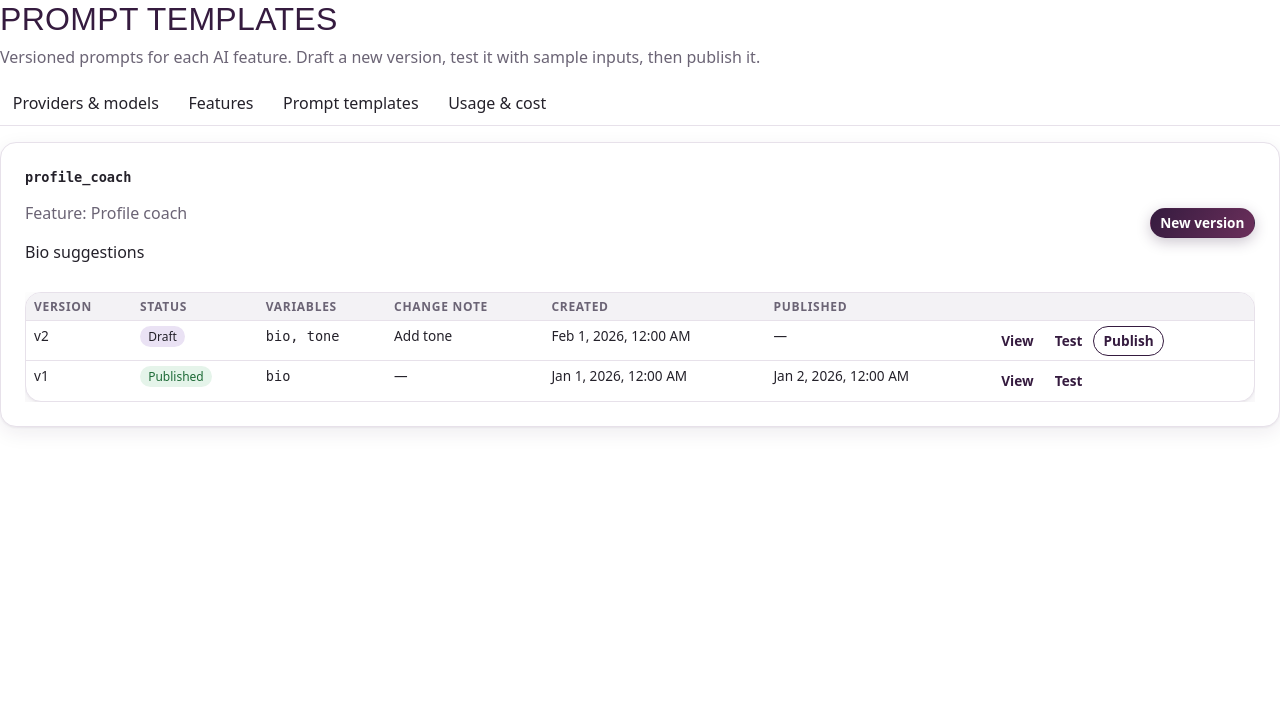
Test: PromptsPage › explains AI_UNAVAILABLE on a test run
Click the button "Test" in the row of "v1".
click(1069, 381)  # box [1044,366,1093,396]
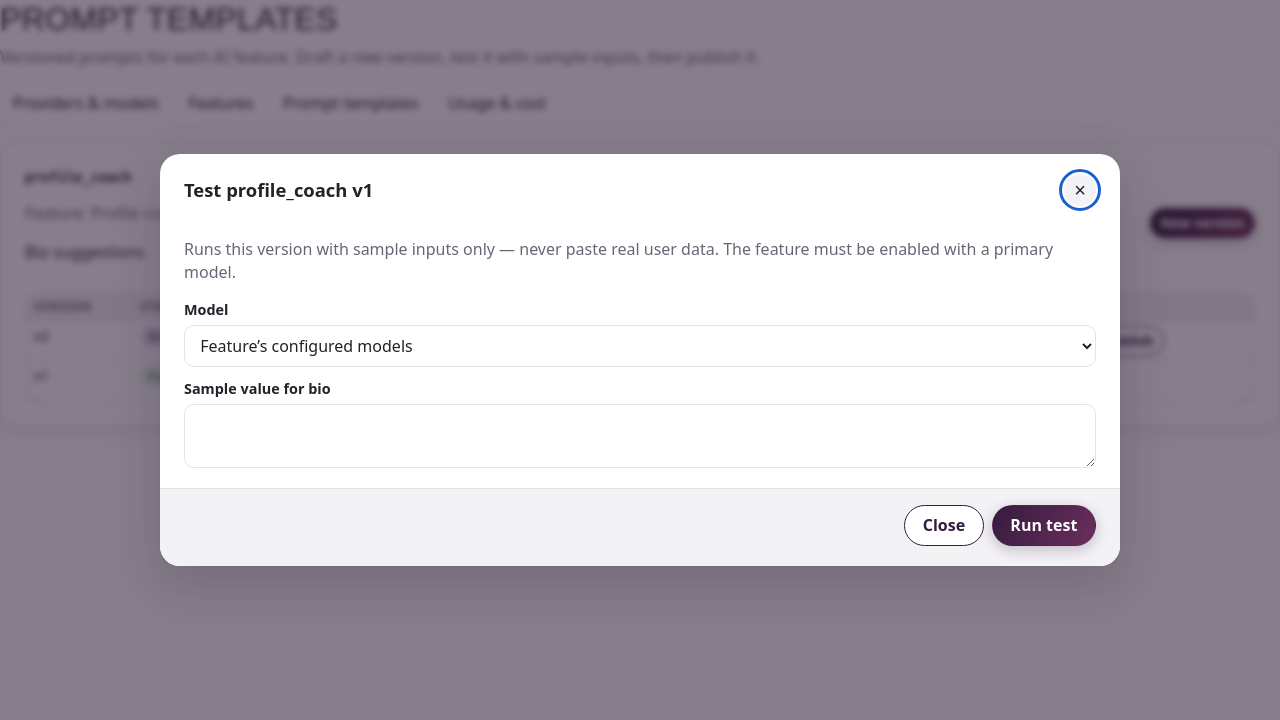
Click the button "Run test".
click(1044, 526)  # box [992,505,1096,546]
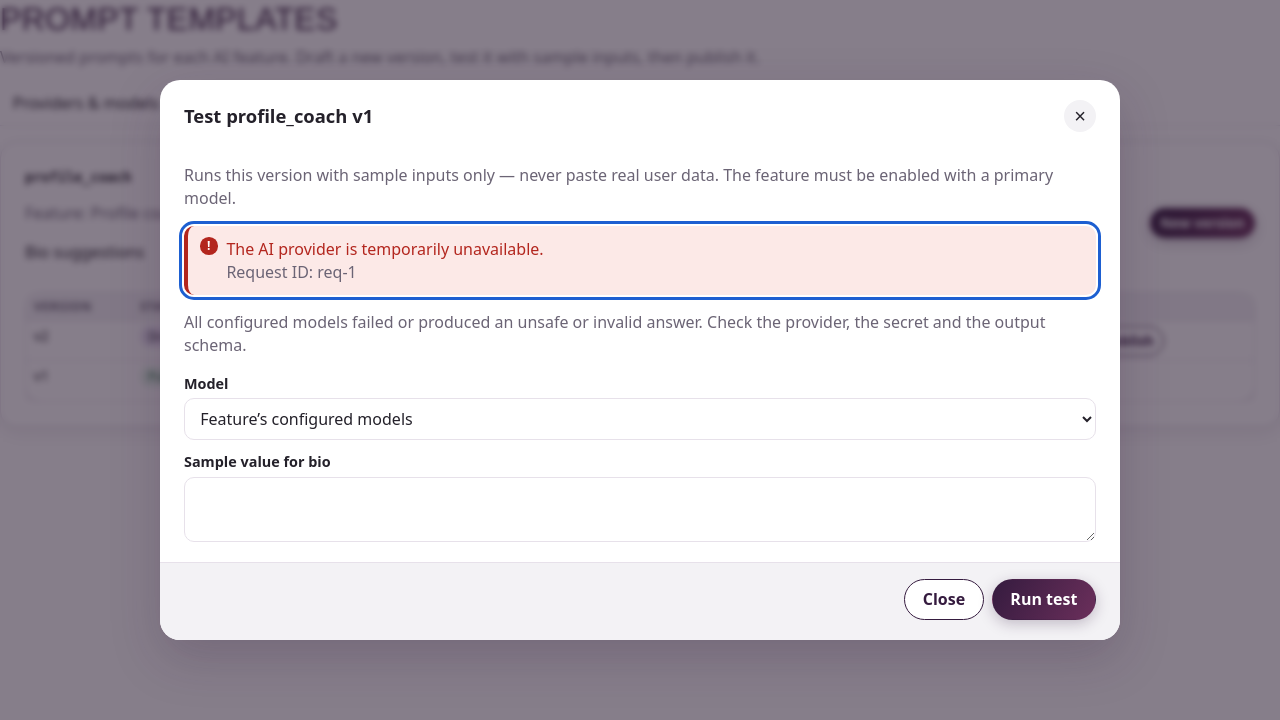
Now the text "The AI provider is temporarily unavailable." is shown, box [226,238,544,260]
Now the text "All configured models failed or produced an unsafe or invalid answer. Check the provider, the secret and the output sche" is shown, box [184,311,1045,356]
